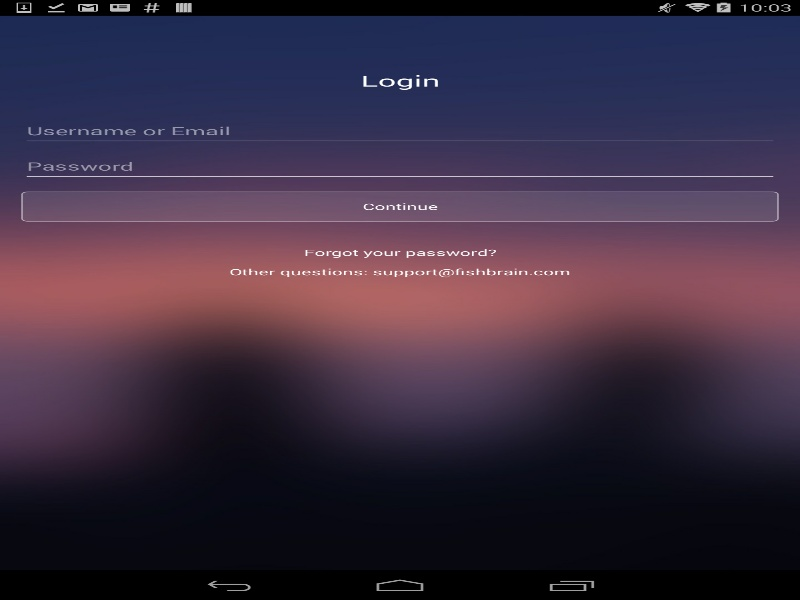Button: (21, 191, 778, 221)
Input: (21, 117, 778, 146), (21, 153, 778, 181)
